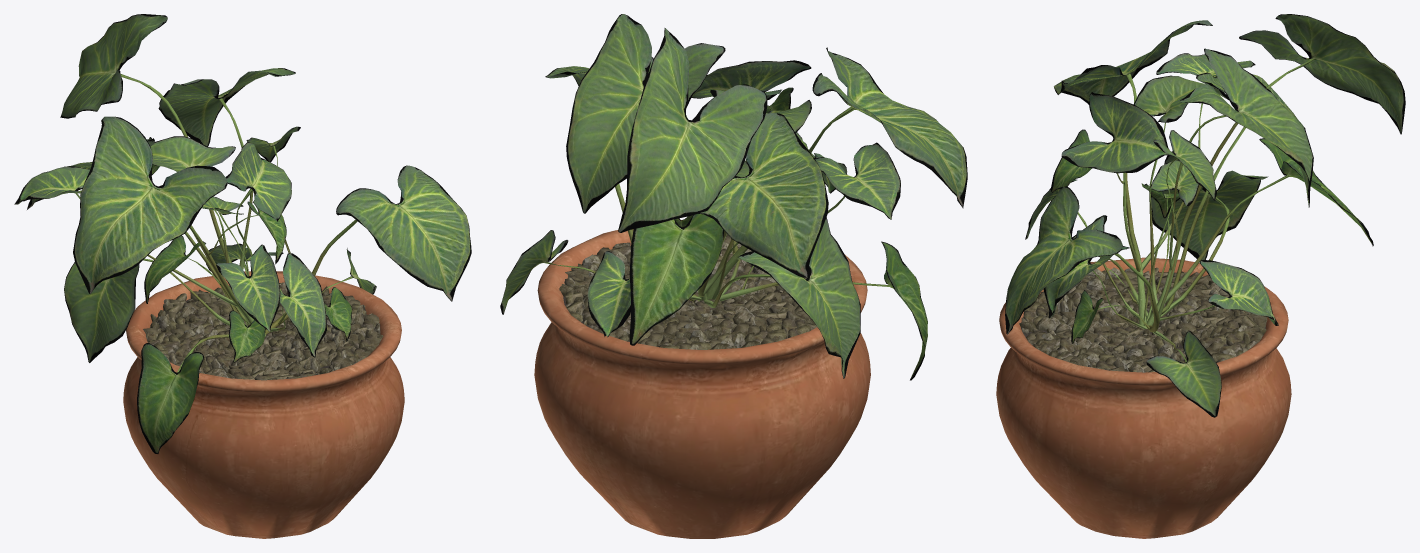
File: potted_plant_02.glb
3 views of the same model, side by side, from view 1: azimuth 30°, elevation 25°; view 2: azimuth 150°, elevation 25°; view 3: azimuth 270°, elevation 25° (orthographic). The views are drawn at different scales.
Visible parts, largest first — view 1: potted_plant_02_leaves, potted_plant_02_pot, potted_plant_02_dirt; view 2: potted_plant_02_leaves, potted_plant_02_pot, potted_plant_02_dirt; view 3: potted_plant_02_leaves, potted_plant_02_pot, potted_plant_02_dirt.
Boxes of the visible parts, x1,y1,x2,y2 form: potted_plant_02_leaves: [14, 14, 471, 453]; potted_plant_02_pot: [123, 271, 404, 538]; potted_plant_02_dirt: [143, 282, 383, 380]; potted_plant_02_leaves: [500, 14, 967, 380]; potted_plant_02_pot: [534, 220, 870, 538]; potted_plant_02_dirt: [559, 233, 816, 349]; potted_plant_02_leaves: [1005, 14, 1405, 417]; potted_plant_02_pot: [996, 257, 1291, 538]; potted_plant_02_dirt: [1019, 267, 1267, 372].
Size of the model in its own units: 0.7009 by 0.8411 by 0.6574.
2 materials, 2 textured.
